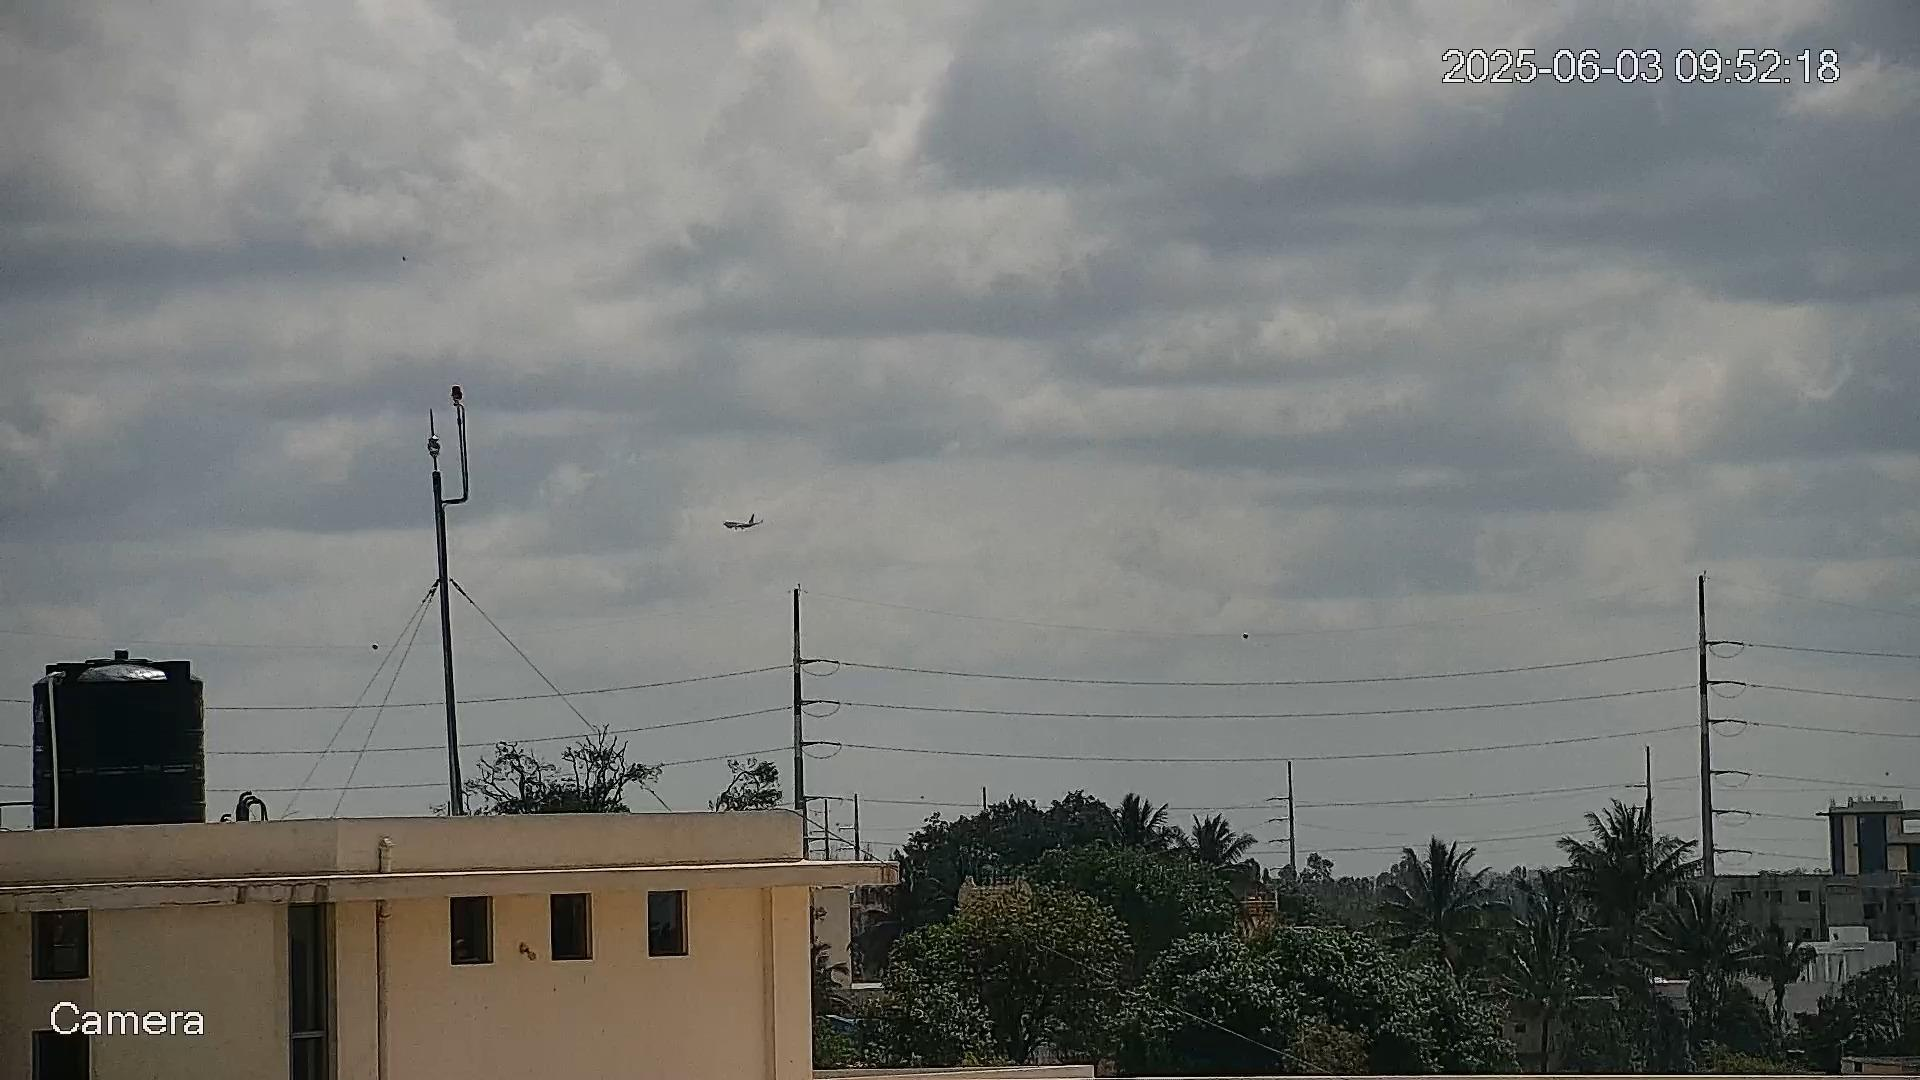Aircraft: (721, 513, 761, 531)
